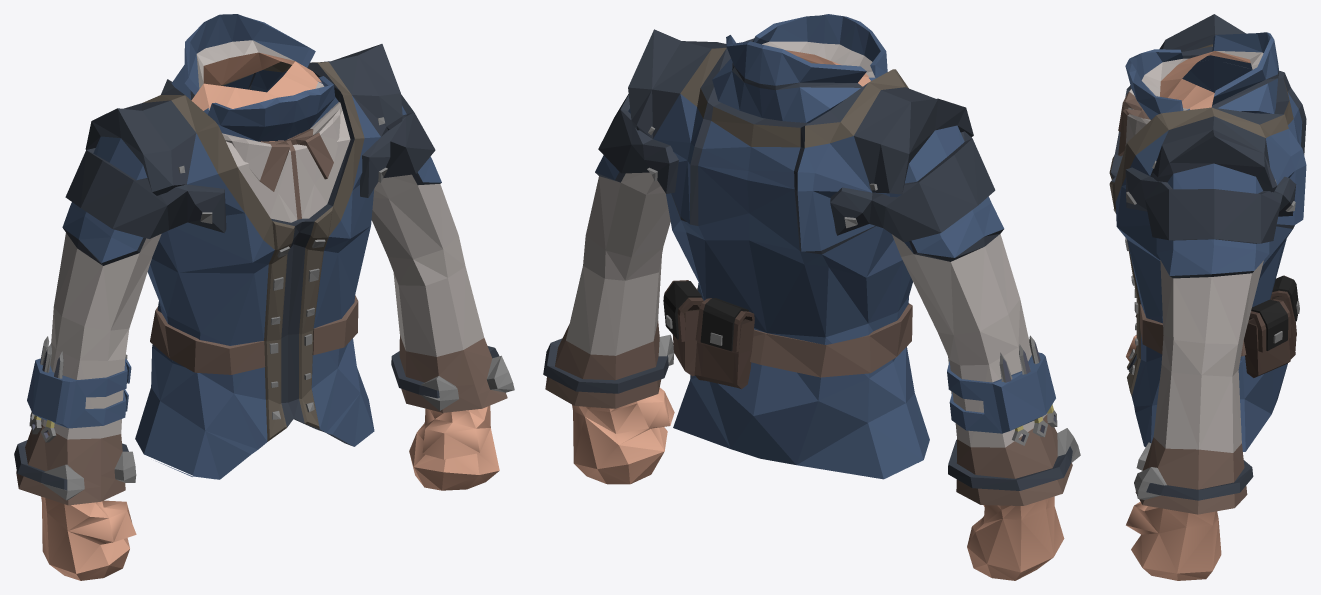
The model's file is LegendaryRogueNobleChestplate.dae.
The picture shows the model from 3 angles, left to right: view 1: azimuth 30°, elevation 25°; view 2: azimuth 150°, elevation 25°; view 3: azimuth 270°, elevation 25°; orthographic projection. The views are drawn at different scales.
Parts seen in each view (by area): view 1: Chest; view 2: Chest; view 3: Chest.
Boxes of the visible parts, x1,y1,x2,y2 form: Chest: [14, 14, 514, 580]; Chest: [543, 14, 1080, 580]; Chest: [1109, 14, 1306, 580].
Bounding box in the file's own units: 5.47 × 2.05 × 5.2.
